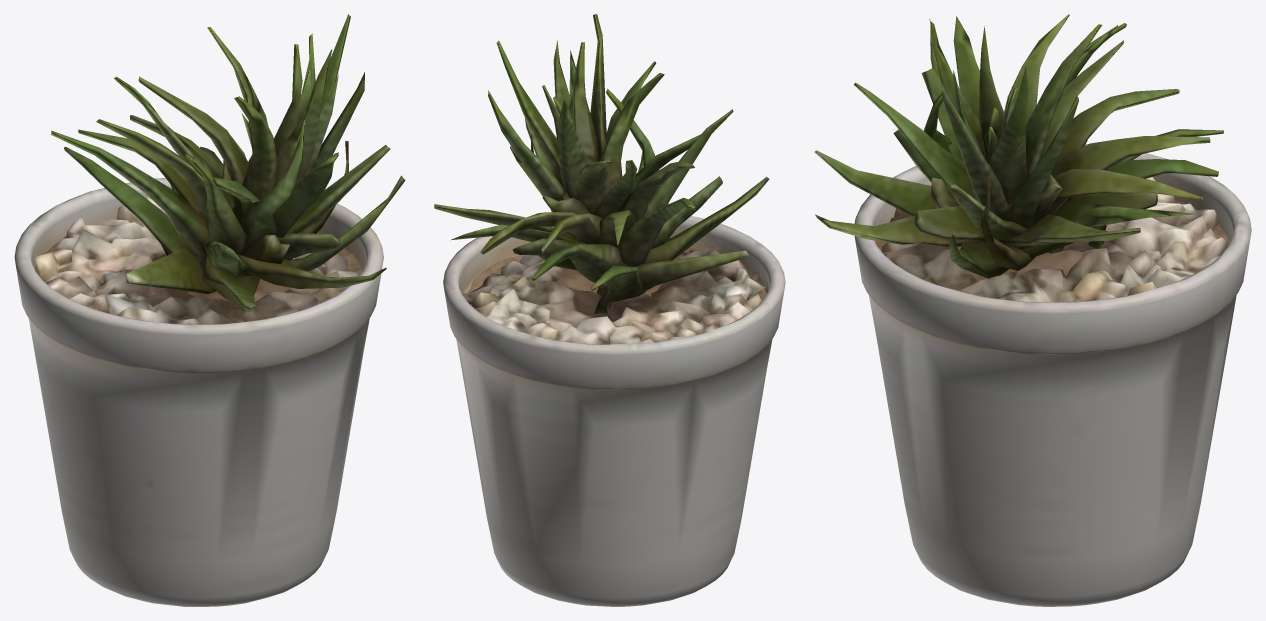
Rendered from plant-small.glb.
3 views of the same model, side by side, from view 1: azimuth 30°, elevation 25°; view 2: azimuth 150°, elevation 25°; view 3: azimuth 270°, elevation 25° (orthographic). The views are drawn at different scales.
Parts seen in each view (by area): view 1: potted_plant_04_pot, potted_plant_04_plant, potted_plant_04_ground, potted_plant_04_dirt; view 2: potted_plant_04_pot, potted_plant_04_plant, potted_plant_04_ground, potted_plant_04_dirt; view 3: potted_plant_04_pot, potted_plant_04_plant, potted_plant_04_ground, potted_plant_04_dirt.
Boxes of the visible parts, x1,y1,x2,y2 form: potted_plant_04_pot: [14, 178, 383, 606]; potted_plant_04_plant: [51, 14, 405, 311]; potted_plant_04_ground: [34, 196, 358, 324]; potted_plant_04_dirt: [34, 236, 362, 306]; potted_plant_04_pot: [443, 216, 785, 606]; potted_plant_04_plant: [434, 14, 769, 313]; potted_plant_04_ground: [463, 247, 766, 344]; potted_plant_04_dirt: [462, 247, 766, 306]; potted_plant_04_pot: [854, 144, 1251, 606]; potted_plant_04_plant: [814, 14, 1223, 278]; potted_plant_04_ground: [881, 177, 1228, 302]; potted_plant_04_dirt: [875, 199, 1229, 297].
Size of the model in its own units: 0.1679 by 0.2672 by 0.1845.
1 material, 1 textured.
